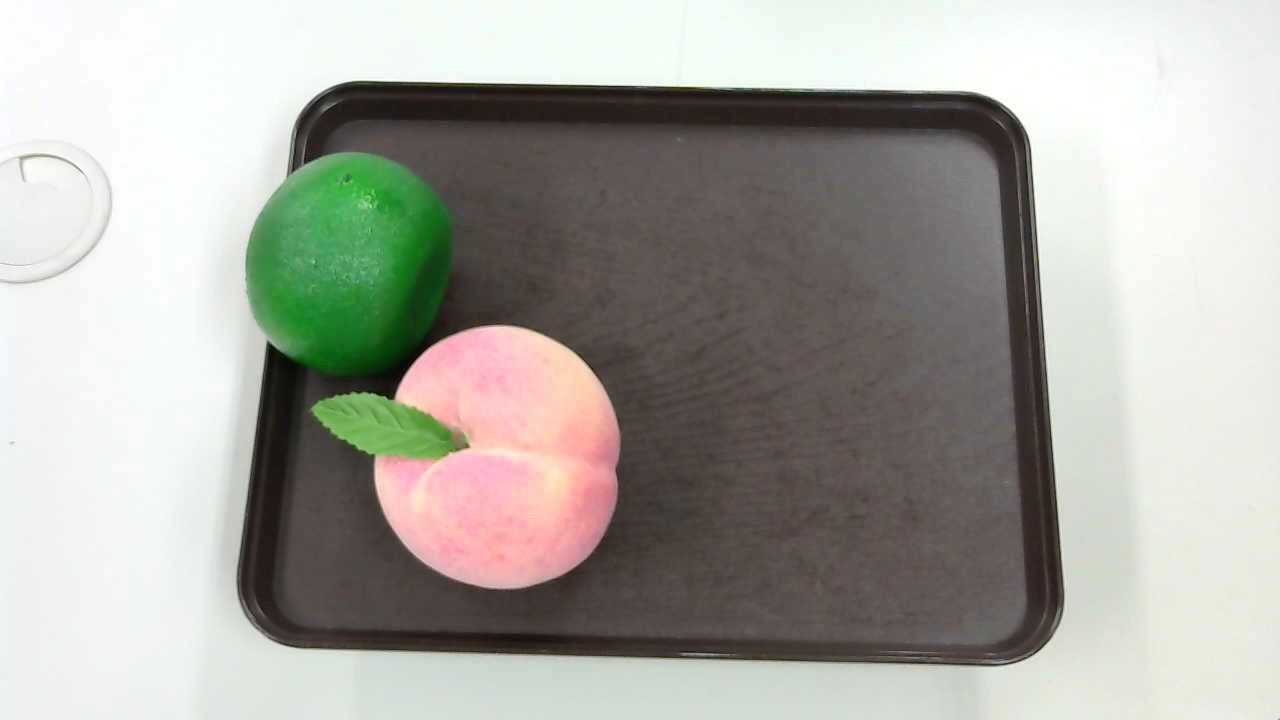green orange: (245, 155, 454, 369)
peach: (312, 318, 619, 595)
